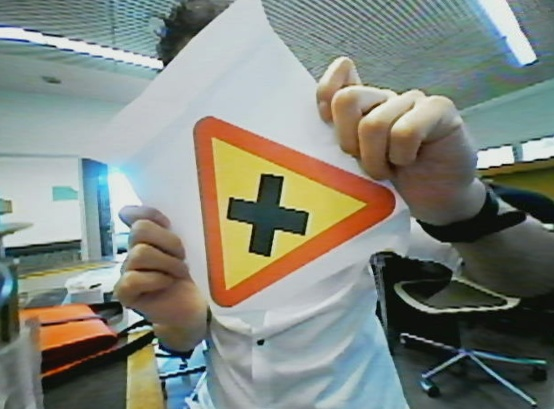junction: (190, 111, 399, 309)
